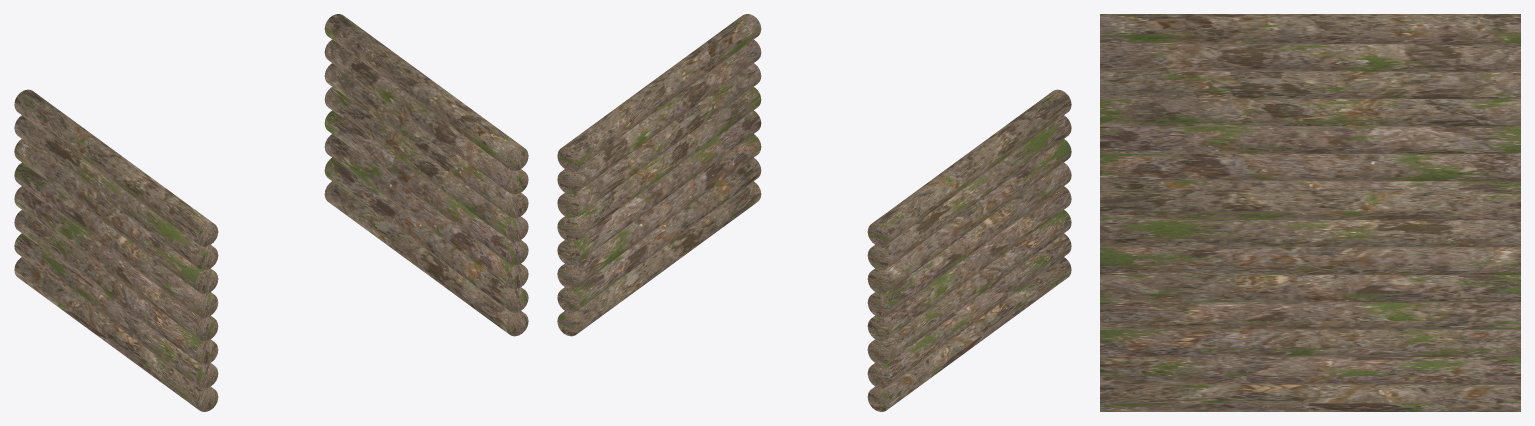
The picture shows the model from 3 angles, left to right: view 1: azimuth 30°, elevation 25°; view 2: azimuth 150°, elevation 25°; view 3: azimuth 270°, elevation 25°; orthographic projection. The views are drawn at different scales.
Visible parts, largest first — view 1: Cylinder.002; view 2: Cylinder.002; view 3: Cylinder.002.
Part boxes in pixels (x1,y1,x2,y2): Cylinder.002: [14, 14, 528, 411]; Cylinder.002: [557, 14, 1071, 411]; Cylinder.002: [1100, 14, 1520, 411].
Bounding box in the file's own units: 29.49 × 16 × 27.82.
1 material, 1 textured.
